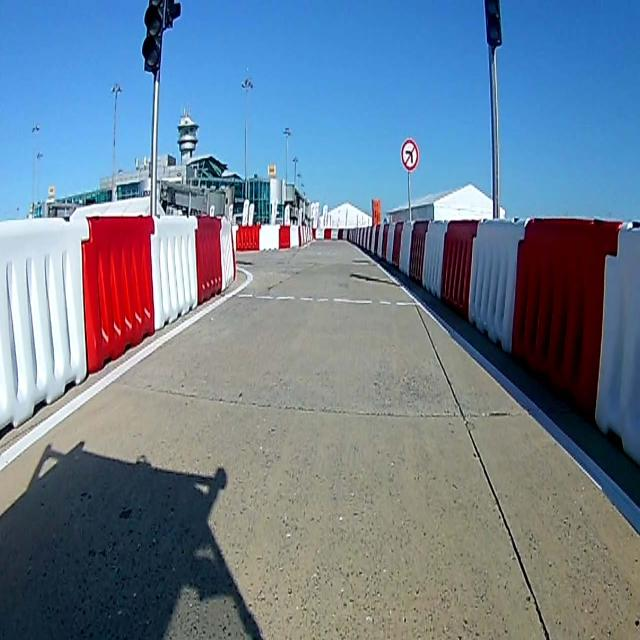soladonulmez: (401, 139, 418, 170)
